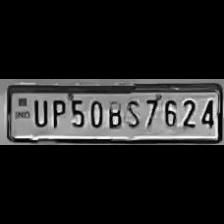0: (86, 97, 104, 129)
2: (180, 97, 196, 129)
4: (197, 96, 215, 128)
5: (67, 96, 85, 128)
6: (159, 96, 177, 128)
7: (141, 95, 159, 129)
B: (104, 96, 124, 130)
P: (47, 96, 66, 128)
S: (124, 96, 142, 128)
U: (29, 96, 48, 128)
